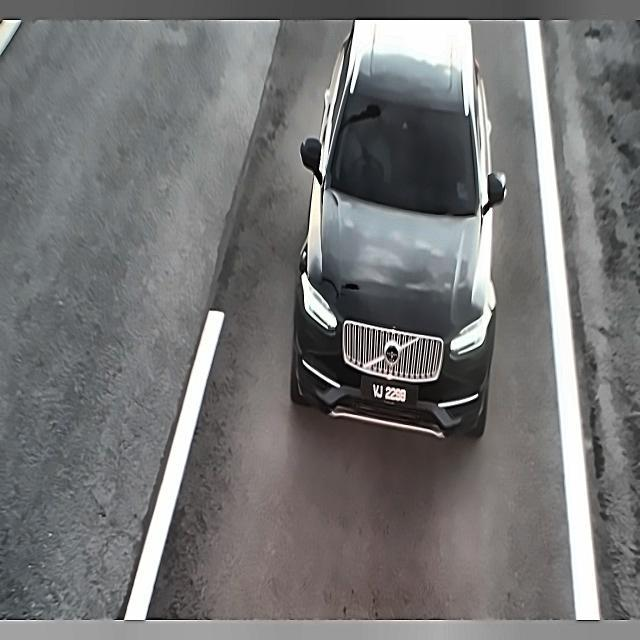car: (365, 378, 414, 410)
